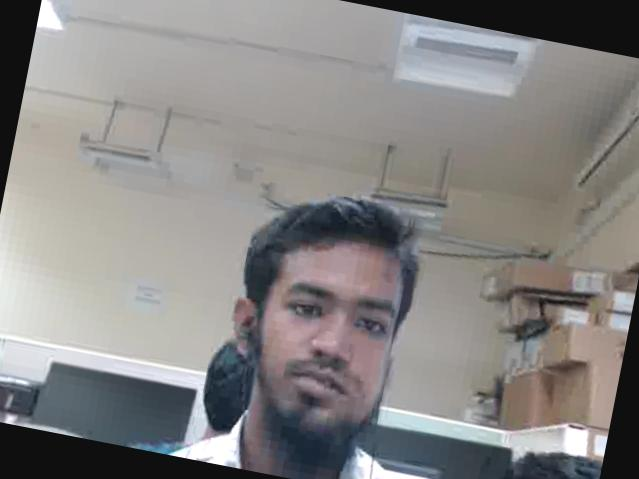bingung: (242, 234, 410, 436)
